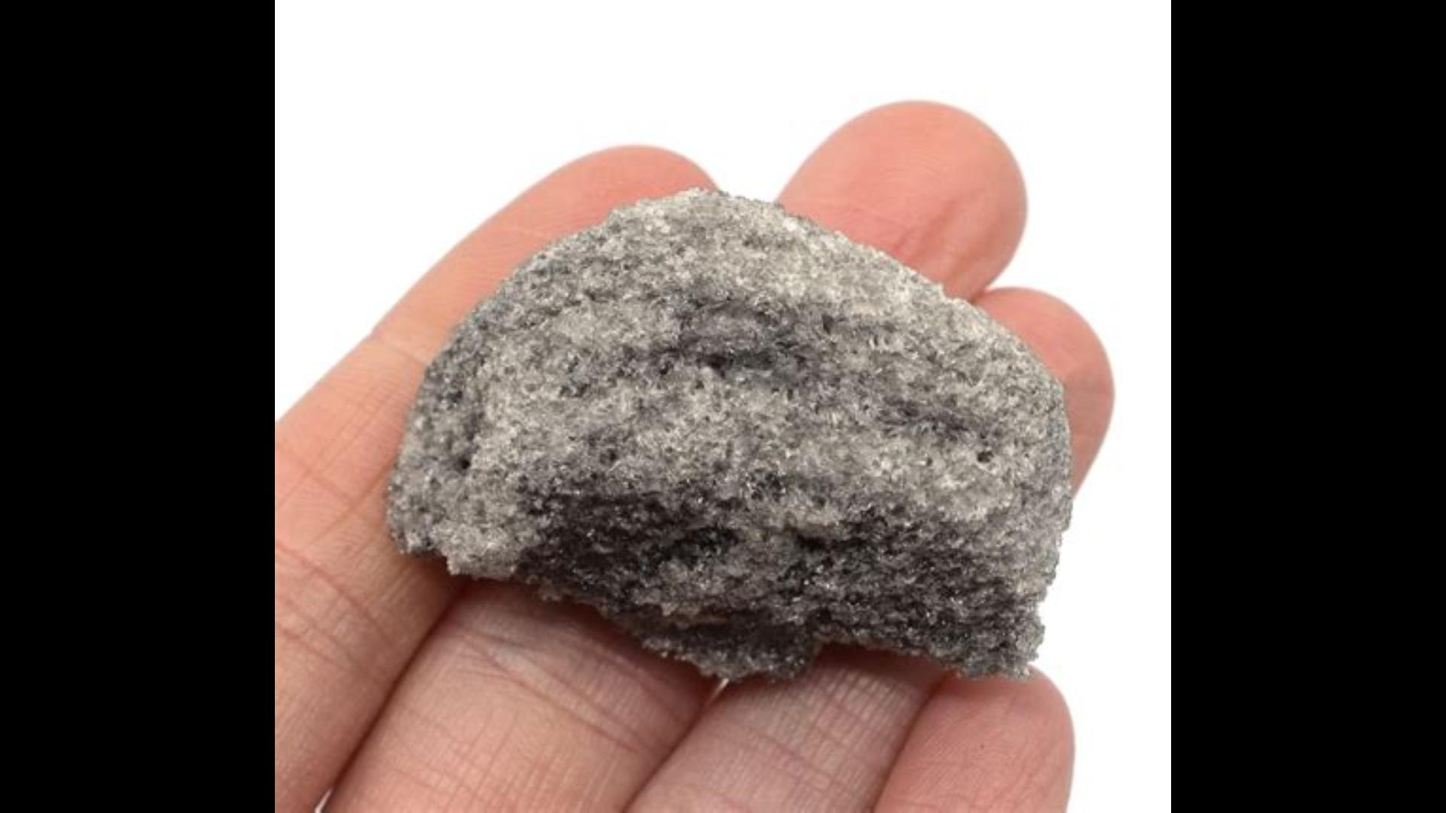rock: (390, 193, 1069, 679)
